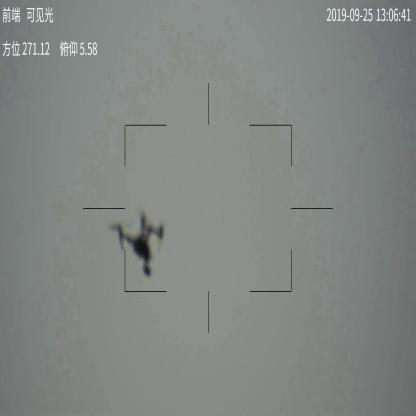uav: (113, 211, 164, 280)
